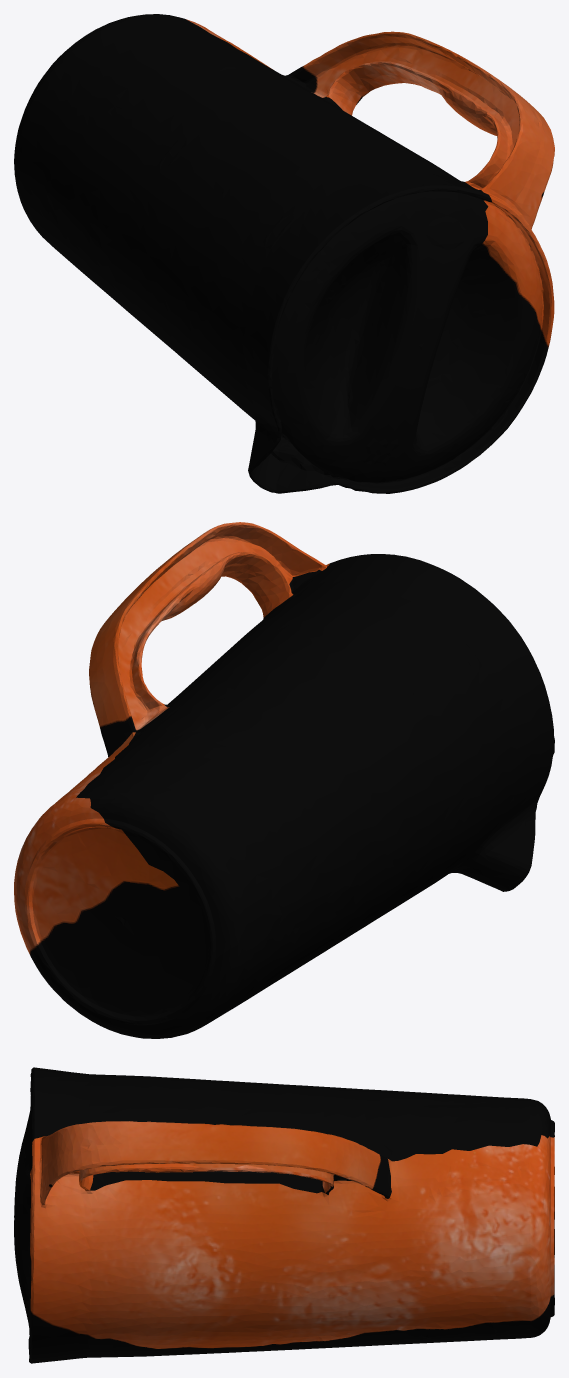
3 views of the same model, one above another, from view 1: azimuth 30°, elevation 25°; view 2: azimuth 150°, elevation 25°; view 3: azimuth 270°, elevation 25° (orthographic). The views are drawn at different scales.
Visible parts, largest first — view 1: node; view 2: node; view 3: node.
Part boxes in pixels (left/top/right/bottom): node: left=14, top=14, right=554, bottom=493; node: left=14, top=522, right=554, bottom=1038; node: left=14, top=1067, right=554, bottom=1363.
Size of the model in its own units: 0.1491 by 0.1448 by 0.2424.
